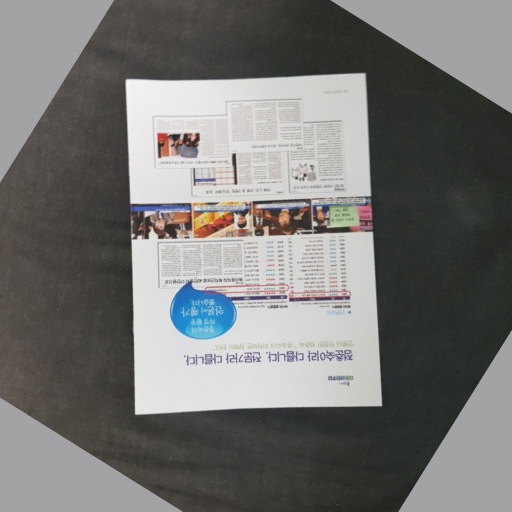Paper_2: (113, 74, 388, 428)
